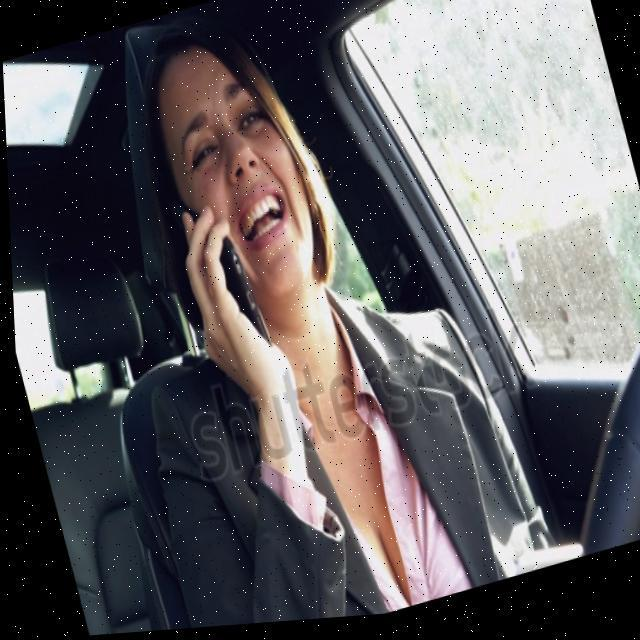PhoneCall: (158, 186, 274, 376)
